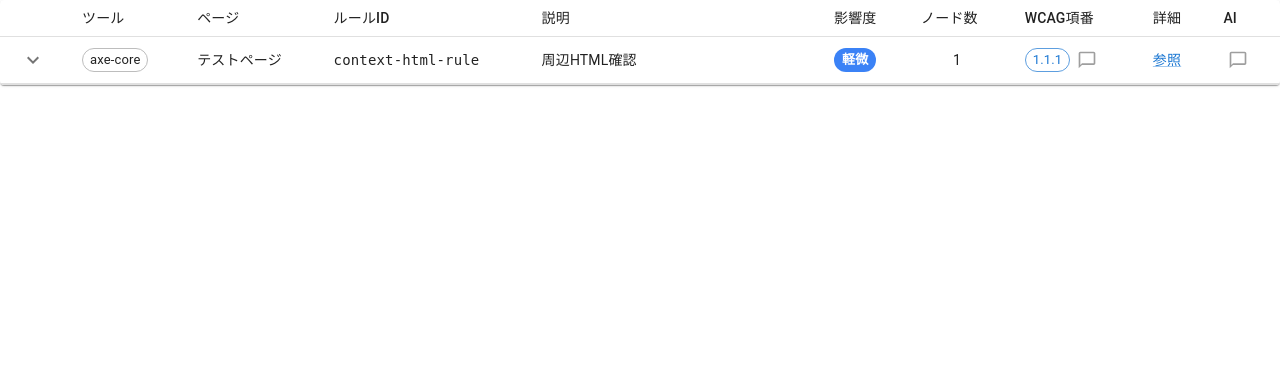
Test: フロントエンド統合テスト (Task 12.2) › 問題箇所の視覚的特定 (Task 13.5, Req 6.1, 6.2, 6.4, 6.7) › 拡張ノード情報の表示 › 周辺HTMLが展開可能なセクションとして表示される (Req 6.5)
# ノード情報を展開
Click the button named "ノード情報を展開" at [33, 60], box [16,43,50,77]
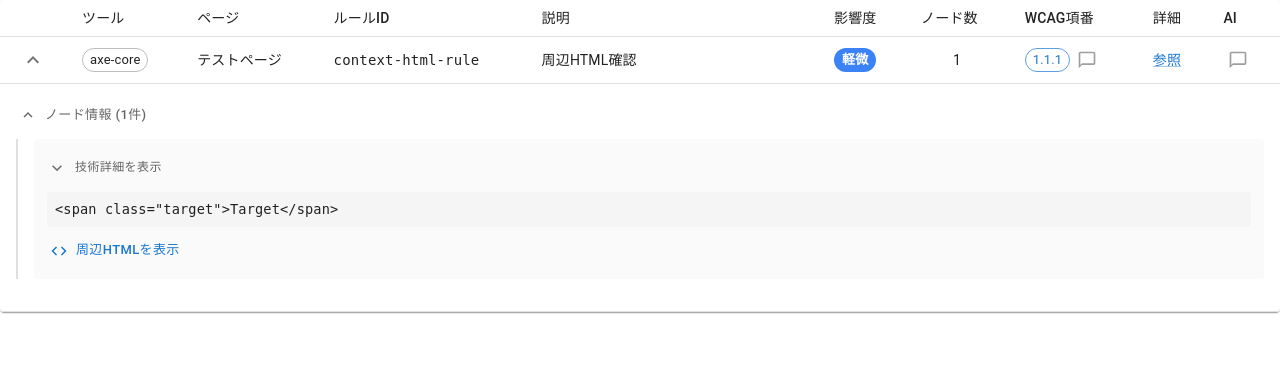
Expected: the button "周辺HTMLを表示" is shown
# クリックして周辺HTMLを表示
Click the button "周辺HTMLを表示" at [116, 251], box [47,235,185,266]
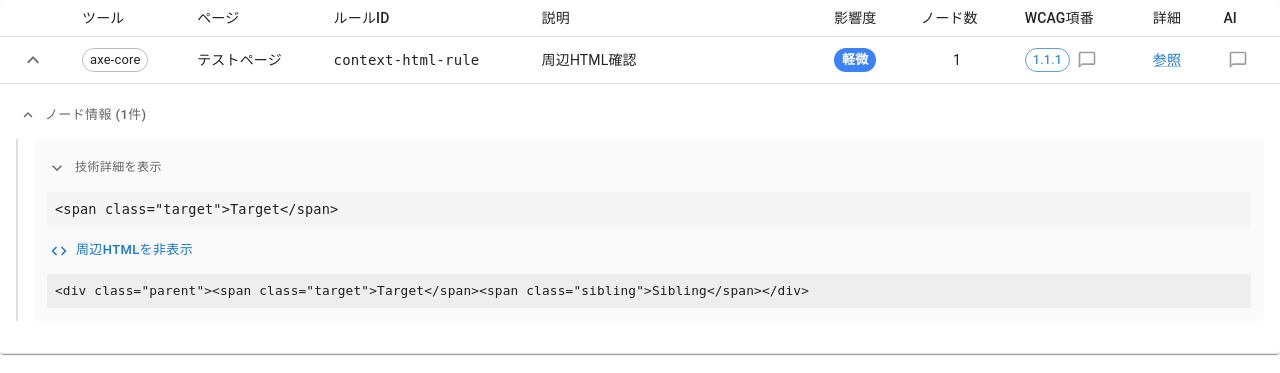
Expected: the text "sibling" is shown, [55,283,809,298]
